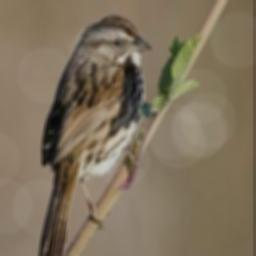Sparrow: (37, 10, 154, 256)
